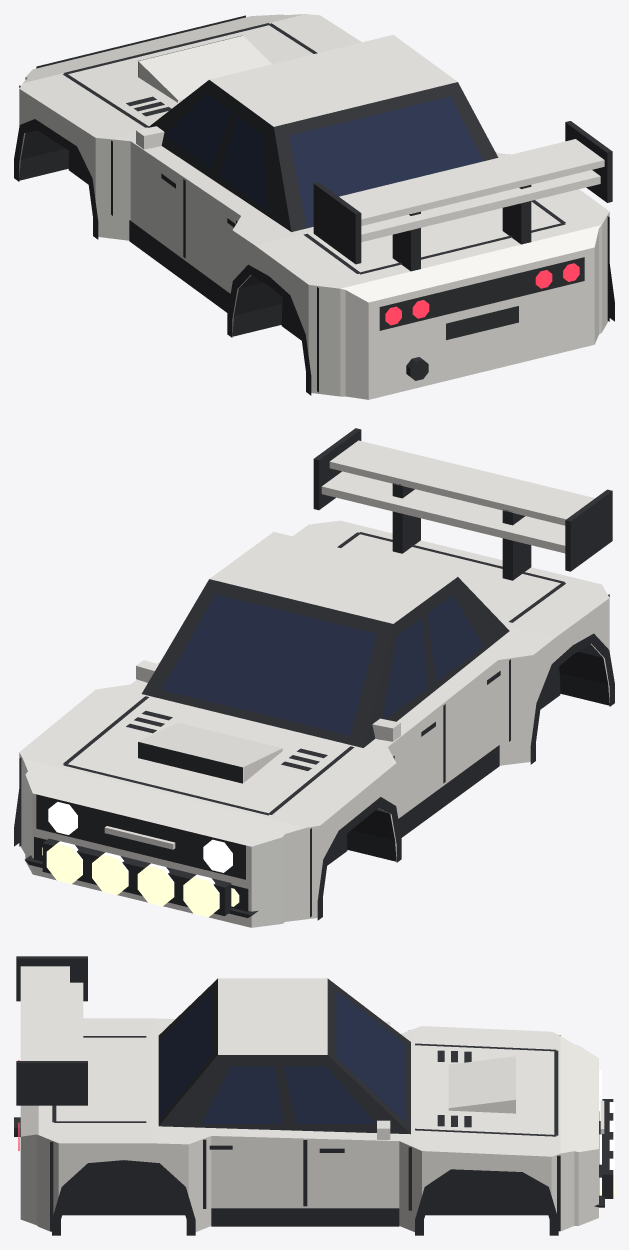
File: Hoshi.glb
3 views of the same model, one above another, from view 1: azimuth 30°, elevation 25°; view 2: azimuth 150°, elevation 25°; view 3: azimuth 270°, elevation 25° (orthographic). The views are drawn at different scales.
Visible parts, largest first — view 1: BumperRear, RearWindow, Opt_Wing_Rally_WingBlade, Roof, Hood, Pillars, Trunk, Door_FL, Opt_Wing_Rally_Wing, Opt_Hood_Scoop_HoodScoop, TailGarnish, Door_RL (+16 smaller); view 2: Hood, Windshield, BumperFront, Opt_Wing_Rally_WingBlade, Pillars, Roof, Trunk, Opt_Wing_Rally_Wing, Door_RL, Grille, Opt_Bumper_Lamps_RallyLamp, Fender_RL (+19 smaller); view 3: Hood, Pillars, Trunk, WheelWell, Roof, Door_FR, Door_RR, BumperFront, Opt_Wing_Rally_WingBlade, Windshield, Fender_RR, Opt_Wing_Rally_Wing (+14 smaller).
Part boxes in pixels (box(x1,y1,x2,y2)): BumperRear: box(323, 217, 606, 399); RearWindow: box(289, 96, 483, 228); Opt_Wing_Rally_WingBlade: box(339, 139, 604, 242); Roof: box(209, 35, 457, 126); Hood: box(19, 14, 361, 138); Pillars: box(147, 80, 498, 231); Trunk: box(255, 189, 609, 286); Door_FL: box(109, 139, 185, 260); Opt_Wing_Rally_Wing: box(313, 121, 612, 271); Opt_Hood_Scoop_HoodScoop: box(138, 35, 271, 102); TailGarnish: box(379, 257, 584, 330); Door_RL: box(186, 179, 240, 293); Hood: box(19, 687, 396, 827); Windshield: box(161, 594, 376, 735); BumperFront: box(22, 759, 305, 927); Opt_Wing_Rally_WingBlade: box(321, 440, 594, 553); Pillars: box(141, 577, 509, 747); Roof: box(210, 532, 457, 623); Trunk: box(293, 523, 609, 637); Opt_Wing_Rally_Wing: box(313, 428, 612, 580); Door_RL: box(443, 658, 512, 785); Grille: box(36, 794, 245, 879); Opt_Bumper_Lamps_RallyLamp: box(46, 841, 219, 917); Fender_RL: box(512, 598, 609, 763); Hood: box(413, 1026, 560, 1156); Pillars: box(158, 978, 410, 1134); Trunk: box(50, 1018, 150, 1143); WheelWell: box(62, 1168, 547, 1215); Roof: box(218, 978, 327, 1054); Door_FR: box(305, 1138, 412, 1231); Door_RR: box(202, 1136, 305, 1229); BumperFront: box(560, 1036, 598, 1231); Opt_Wing_Rally_WingBlade: box(20, 966, 83, 1060); Windshield: box(336, 990, 405, 1121); Fender_RR: box(50, 1139, 202, 1231); Opt_Wing_Rally_Wing: box(16, 956, 87, 1105).
Bounding box in the file's own units: 6.66 × 4.01 × 13.41.
